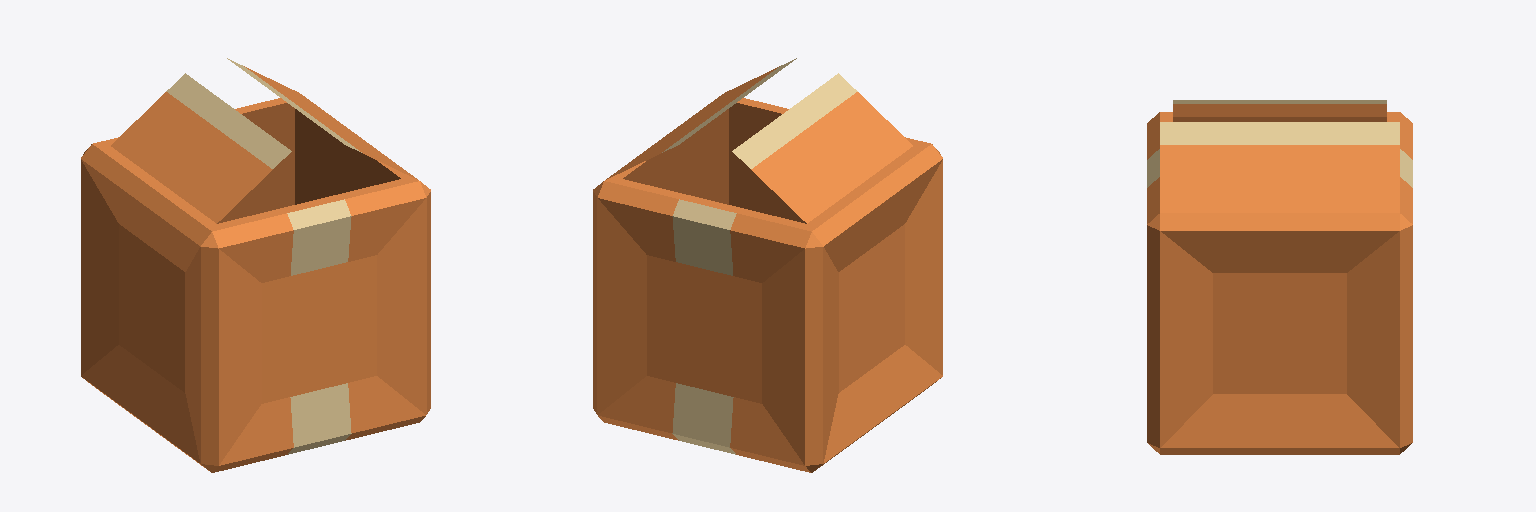
The model's file is boxOpen.obj.
The picture shows the model from 3 angles: view 1: azimuth 30°, elevation 25°; view 2: azimuth 150°, elevation 25°; view 3: azimuth 270°, elevation 25°; orthographic projection.
Visible parts, largest first — view 1: boxOpen; view 2: boxOpen; view 3: boxOpen.
Boxes of the visible parts, box(x1,y1,x2,y2) form: boxOpen: box(81, 58, 430, 472); boxOpen: box(593, 58, 942, 472); boxOpen: box(1147, 100, 1412, 454).
Size of the model in its own units: 0.25 by 0.3063 by 0.25.